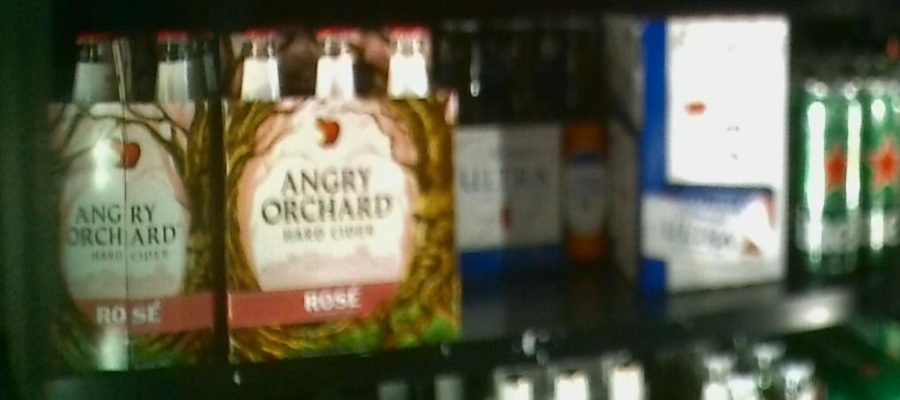bottle: (224, 19, 461, 356), (36, 20, 223, 376), (607, 13, 789, 294), (459, 13, 610, 269), (791, 78, 863, 280)
